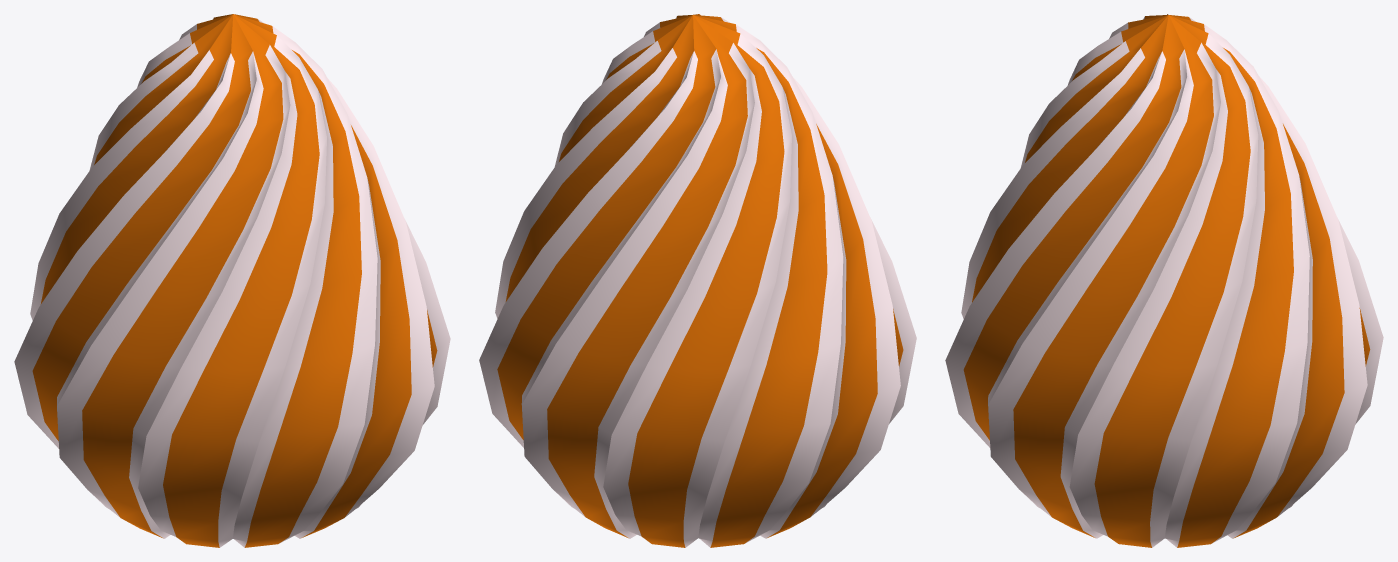
File: Ice Cream Spiral A White Brown.fbx
3 views of the same model, side by side, from view 1: azimuth 30°, elevation 25°; view 2: azimuth 150°, elevation 25°; view 3: azimuth 270°, elevation 25° (orthographic).
Visible parts, largest first — view 1: Ice Cream Spiral A White Brown; view 2: Ice Cream Spiral A White Brown; view 3: Ice Cream Spiral A White Brown.
Part boxes in pixels (x1,y1,x2,y2): Ice Cream Spiral A White Brown: (14, 14, 450, 547); Ice Cream Spiral A White Brown: (479, 14, 916, 547); Ice Cream Spiral A White Brown: (945, 14, 1383, 547).
Bounding box in the file's own units: 0.4046 × 0.4954 × 0.4046.
